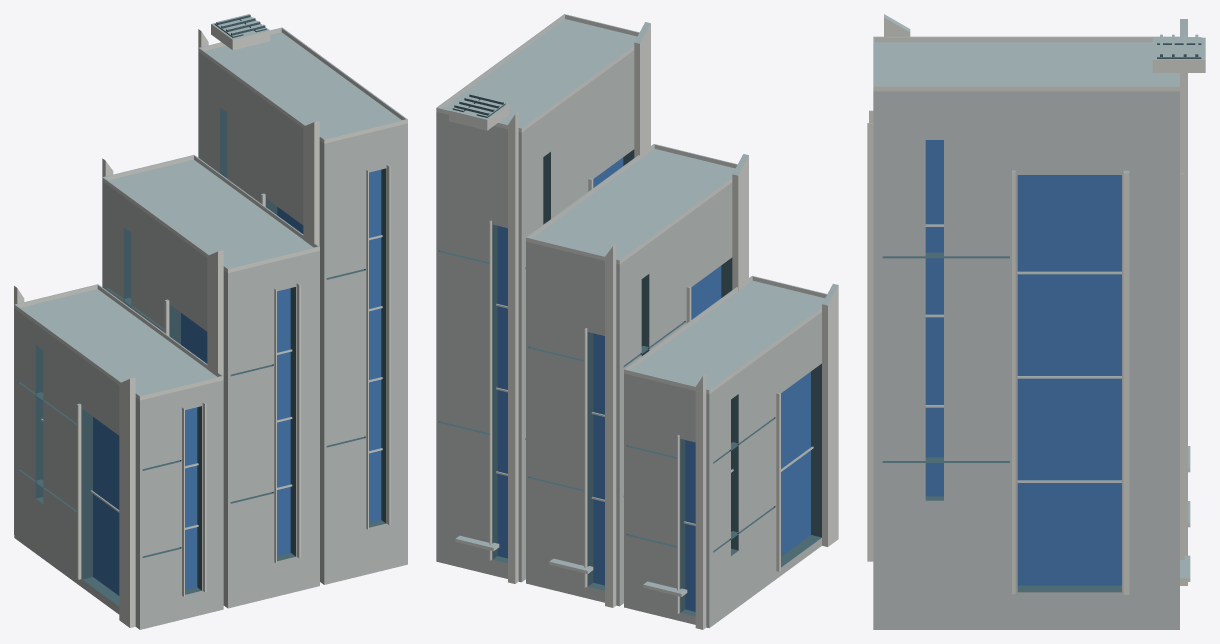
File: 03_Kaskade.obj
3 renders of one model, left to right at view 1: azimuth 30°, elevation 25°; view 2: azimuth 150°, elevation 25°; view 3: azimuth 270°, elevation 25°, orthographic. The views are drawn at different scales.
Size of the model in its own units: 0.6308 by 1 by 0.5453.
